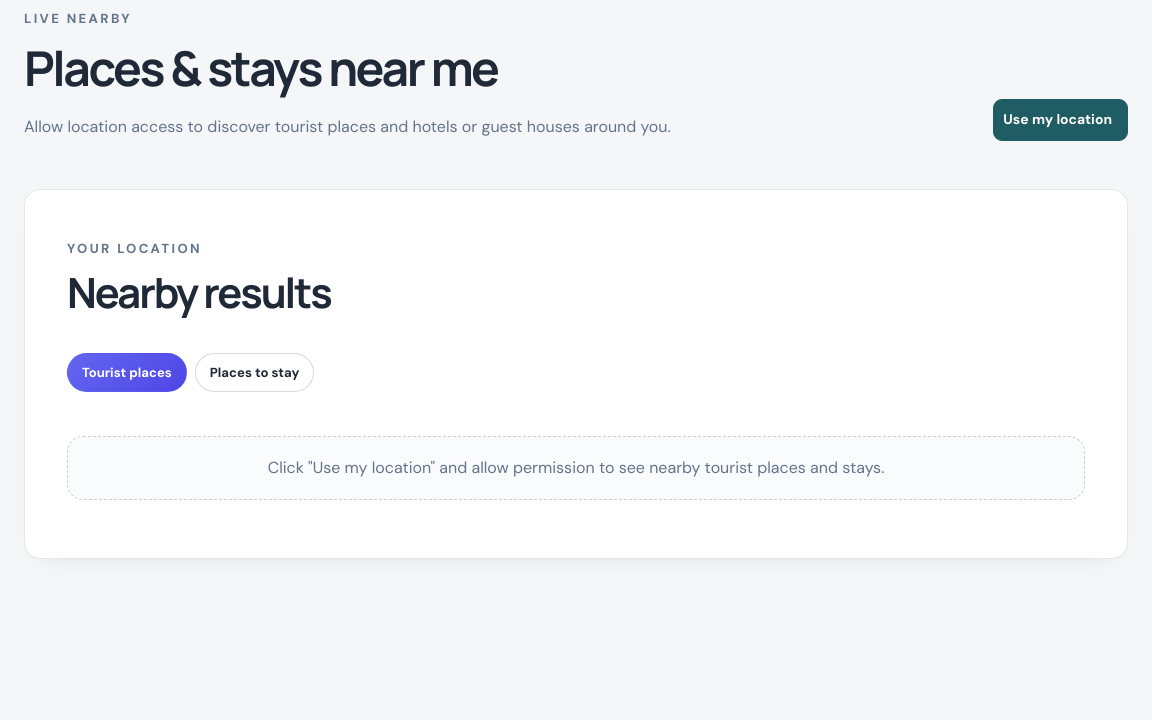
NearMePage › tells the user when the backend is not running
The image size is (1152, 720).
Click the button "Use my location". click: (1061,120)
box: [993,99,1128,141]
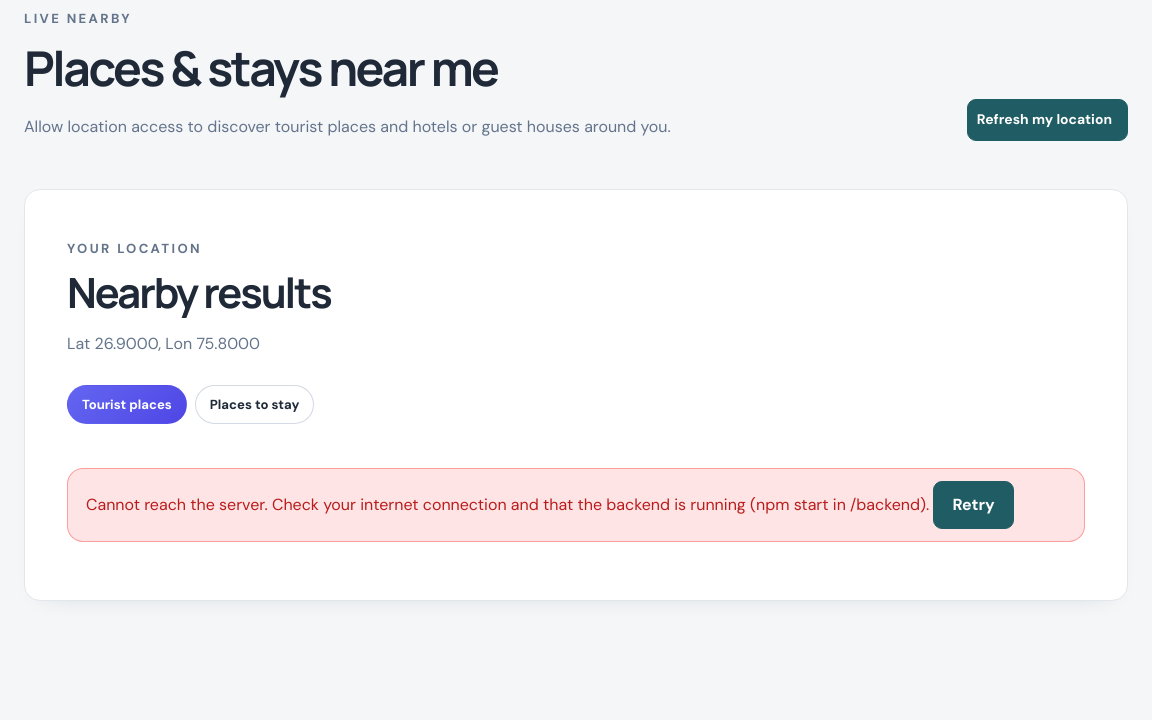
Result: the message shows "Cannot reach the server" at [86,494,929,515]
